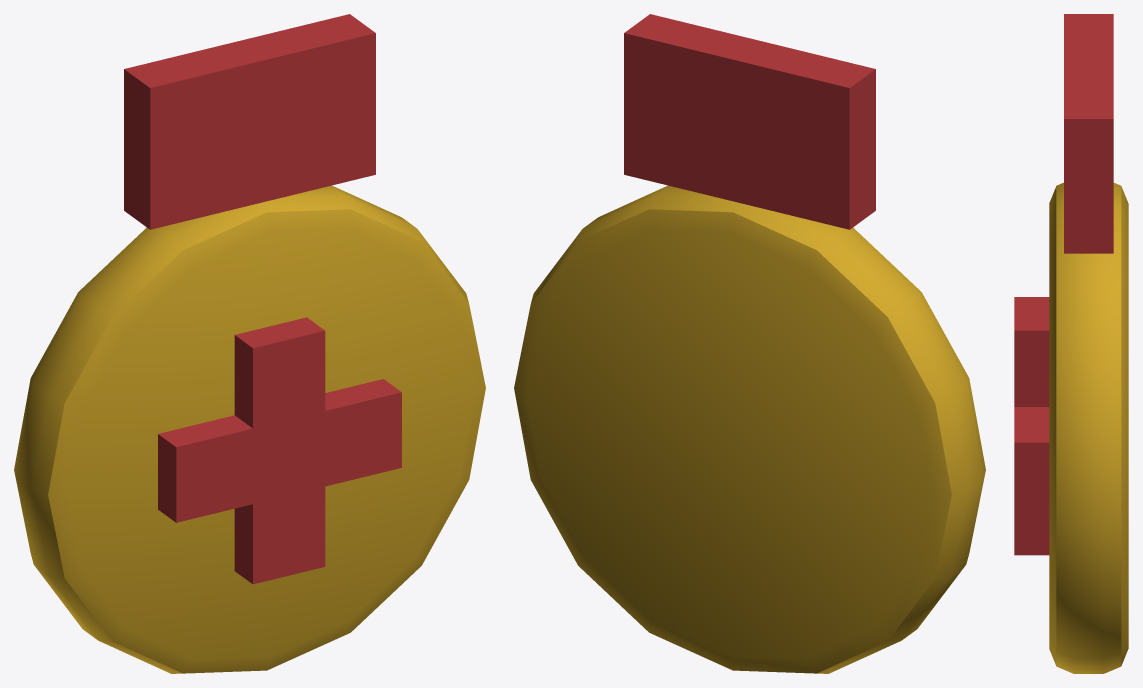
Rendered from gear_feuerwehr_charm.glb.
3 views of the same model, side by side, from view 1: azimuth 30°, elevation 25°; view 2: azimuth 150°, elevation 25°; view 3: azimuth 270°, elevation 25° (orthographic). The views are drawn at different scales.
Parts seen in each view (by area): view 1: body; view 2: body; view 3: body.
Part boxes in pixels (bbox=[...]): body: bbox=[14, 14, 485, 673]; body: bbox=[514, 14, 985, 673]; body: bbox=[1014, 14, 1128, 673].
Bounding box in the file's own units: 0.1 × 0.13 × 0.023.
